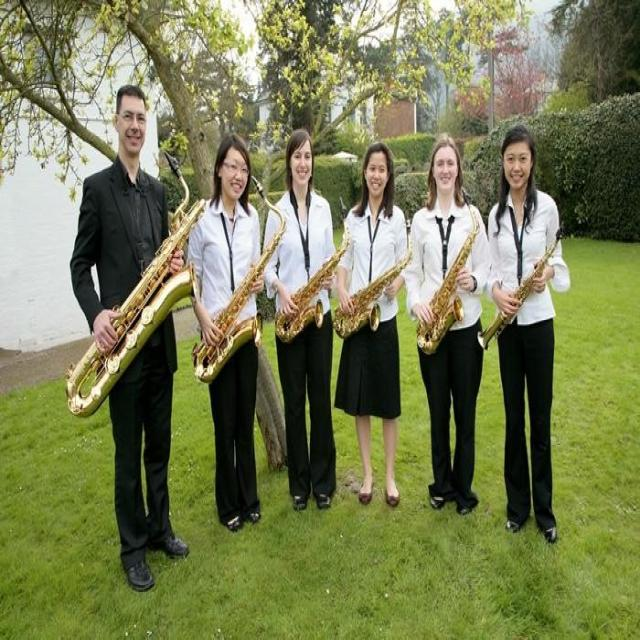saxophone: (62, 149, 209, 421), (191, 176, 287, 380), (332, 202, 418, 338), (274, 196, 354, 342), (416, 186, 481, 358)
